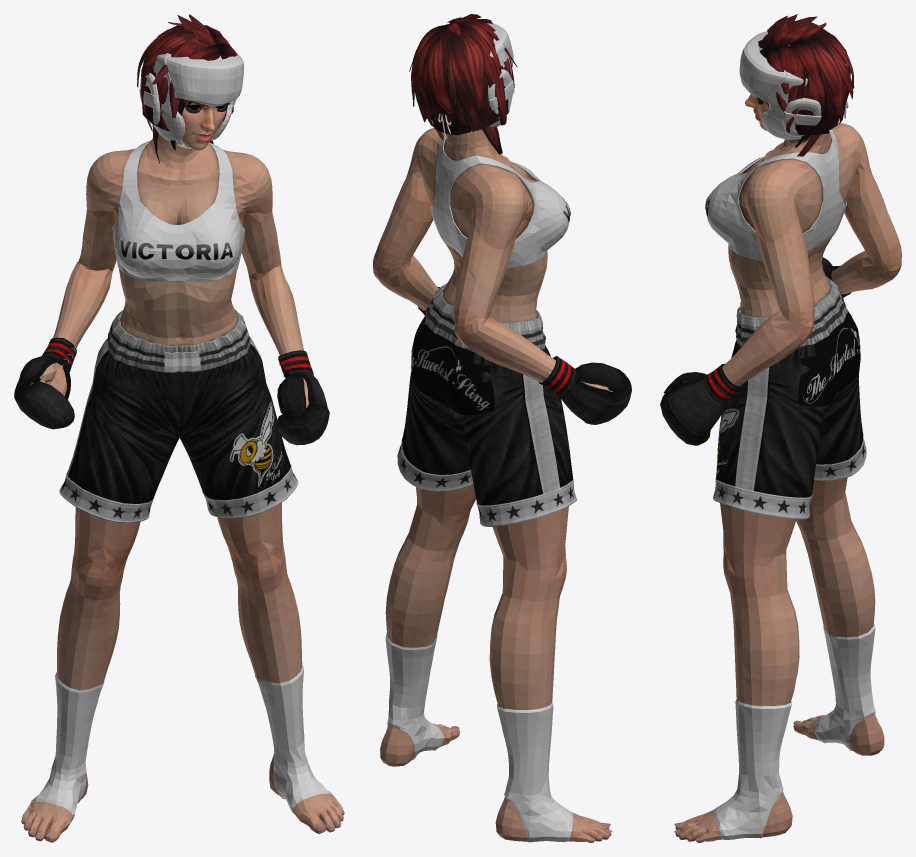
Rendered from Mila_pose_2.obj.
3 renders of one model, left to right at view 1: azimuth 30°, elevation 25°; view 2: azimuth 150°, elevation 25°; view 3: azimuth 270°, elevation 25°, orthographic.
Parts seen in each view (by area): view 1: 24_body_0.3_0_0, 24_pants_0.5_0_0, 24_upper_0.5_0_0, 24_+glooves.glooves_0.5_0_0, 24_+headgear.headgear_0.5_0_0, 25_hred1nPart!_0.8_0_0, 7_bee_0.5_0_0, 7_victoria_0.5_0_0, 24_face_0.3_0_0; view 2: 24_body_0.3_0_0, 24_pants_0.5_0_0, 24_upper_0.5_0_0, 25_hred1nPart!_0.8_0_0, 7_sweeting_0.5_0_0, 24_+glooves.glooves_0.5_0_0, 25_hred!_0.8_0_0, 24_+headgear.headgear_0.5_0_0; view 3: 24_body_0.3_0_0, 24_pants_0.5_0_0, 24_upper_0.5_0_0, 25_hred1nPart!_0.8_0_0, 24_+glooves.glooves_0.5_0_0, 24_+headgear.headgear_0.5_0_0, 7_sweeting_0.5_0_0, 25_hred!_0.8_0_0.
Part boxes in pixels (x1,y1,x2,y2): 24_body_0.3_0_0: (21, 133, 344, 842); 24_pants_0.5_0_0: (59, 309, 298, 523); 24_upper_0.5_0_0: (31, 140, 332, 820); 24_+glooves.glooves_0.5_0_0: (14, 337, 329, 445); 24_+headgear.headgear_0.5_0_0: (139, 53, 243, 149); 25_hred1nPart!_0.8_0_0: (137, 14, 237, 131); 7_bee_0.5_0_0: (229, 402, 283, 486); 7_victoria_0.5_0_0: (120, 239, 233, 260); 24_face_0.3_0_0: (181, 101, 226, 150); 24_body_0.3_0_0: (373, 128, 612, 842); 24_pants_0.5_0_0: (397, 283, 576, 526); 24_upper_0.5_0_0: (385, 134, 573, 842); 25_hred1nPart!_0.8_0_0: (409, 14, 517, 131); 7_sweeting_0.5_0_0: (411, 324, 494, 415); 24_+glooves.glooves_0.5_0_0: (418, 286, 631, 424); 25_hred!_0.8_0_0: (412, 57, 502, 154); 24_+headgear.headgear_0.5_0_0: (438, 23, 514, 134); 24_body_0.3_0_0: (674, 123, 901, 842); 24_pants_0.5_0_0: (713, 276, 866, 519); 24_upper_0.5_0_0: (706, 129, 875, 840); 25_hred1nPart!_0.8_0_0: (758, 14, 854, 133); 24_+glooves.glooves_0.5_0_0: (660, 257, 851, 445); 24_+headgear.headgear_0.5_0_0: (739, 31, 848, 139); 7_sweeting_0.5_0_0: (798, 312, 860, 406); 25_hred!_0.8_0_0: (795, 62, 850, 156).
Size of the model in its own units: 0.6215 by 1.72 by 0.4816.
